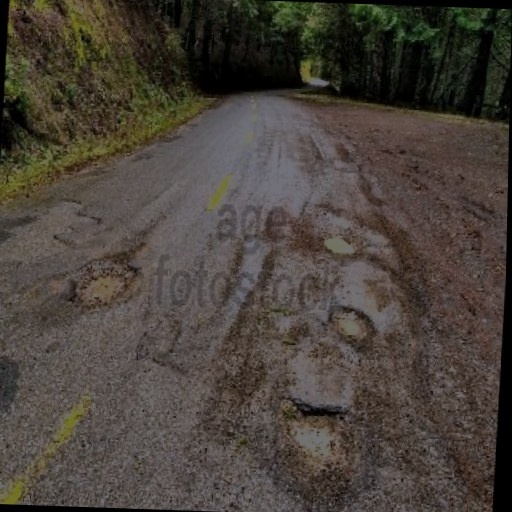pothole: (276, 396, 355, 470), (63, 256, 142, 310), (326, 302, 375, 352), (320, 231, 359, 258)
